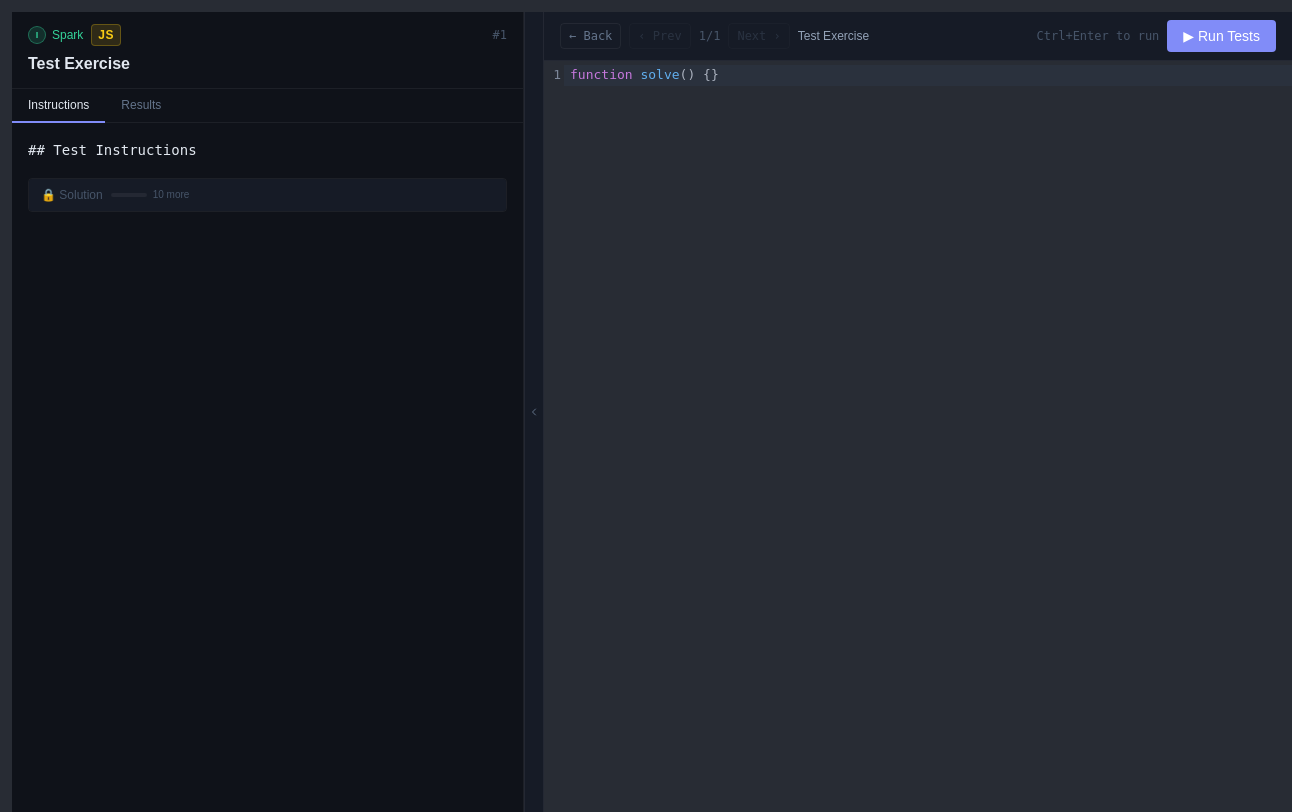
it: Collapsible Instructions Panel › hides instructions panel when toggle clicked
Expected: the tab "Instructions" is shown, [12, 89, 105, 123]
Click toggle to collapse
Step 1. Click the button named "Hide instructions panel" → click(534, 412), box [524, 12, 544, 811]
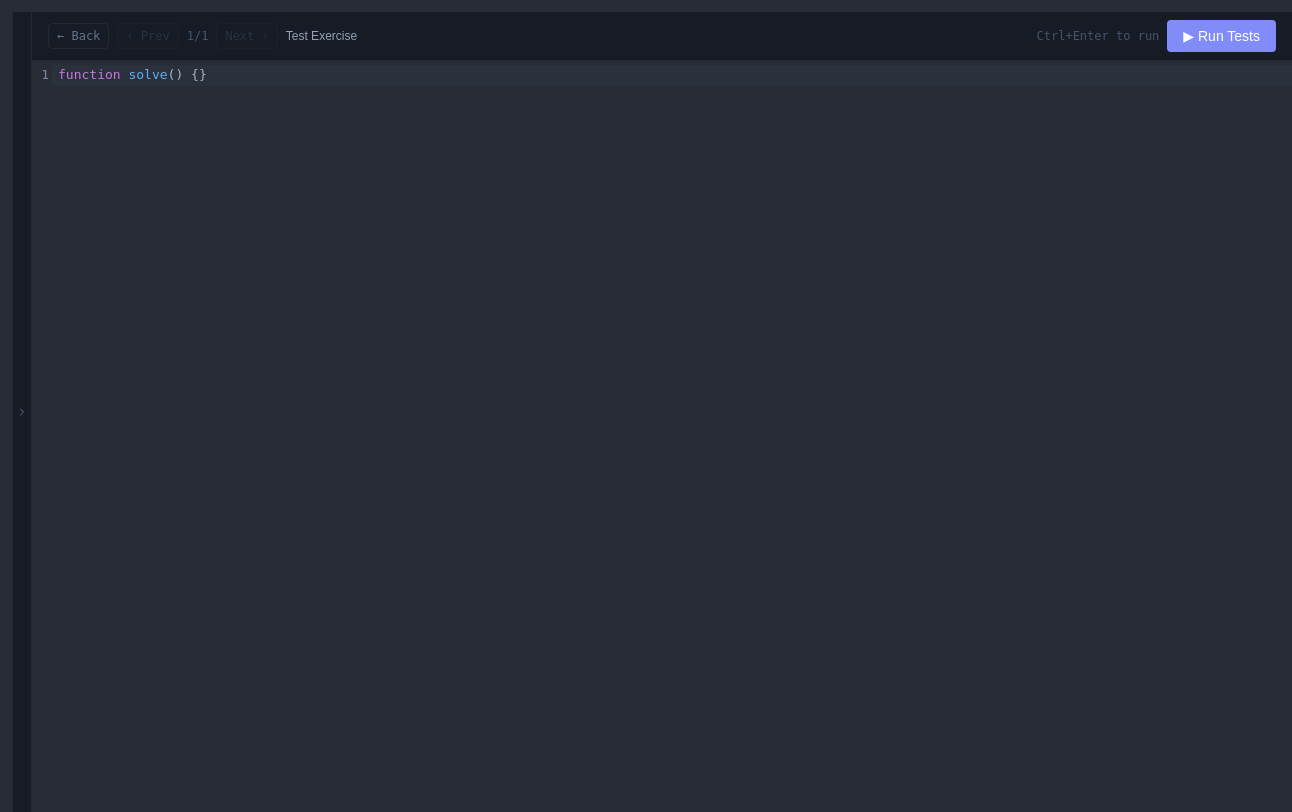
Result: the tab "Instructions" is gone
Result: the button named "Show instructions panel" is shown at [12, 12, 32, 811]
